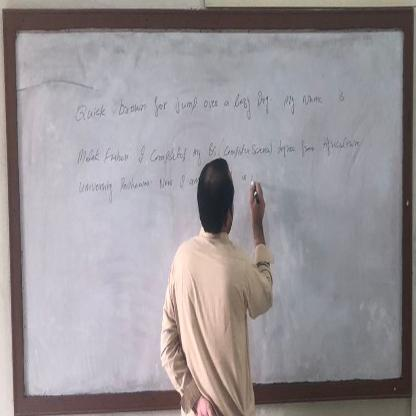Handwritten text: (160, 156, 272, 416), (69, 73, 348, 133), (72, 122, 366, 175), (72, 163, 192, 201)
Whiteboard: (13, 28, 407, 396)
